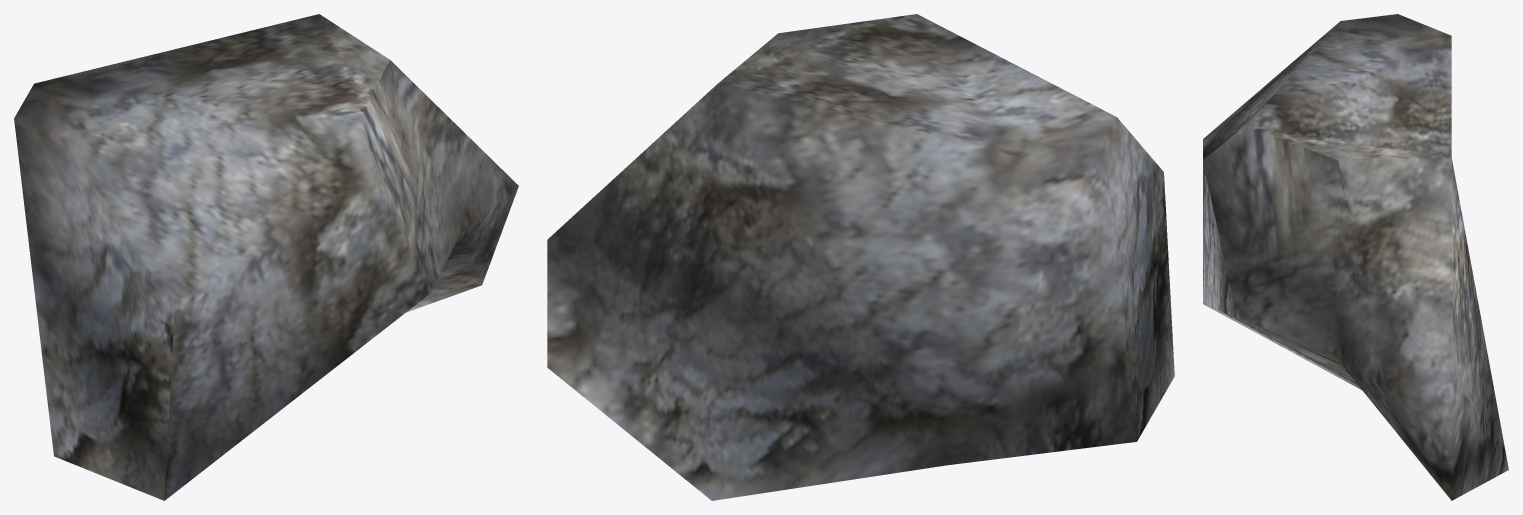
The model's file is Rock.fbx.
3 views of the same model, side by side, from view 1: azimuth 30°, elevation 25°; view 2: azimuth 150°, elevation 25°; view 3: azimuth 270°, elevation 25° (orthographic). The views are drawn at different scales.
Visible parts, largest first — view 1: Rock; view 2: Rock; view 3: Rock.
Part boxes in pixels (x1,y1,x2,y2): Rock: [14, 14, 518, 500]; Rock: [547, 14, 1174, 500]; Rock: [1203, 14, 1508, 500].
Size of the model in its own units: 175 by 124 by 106.
